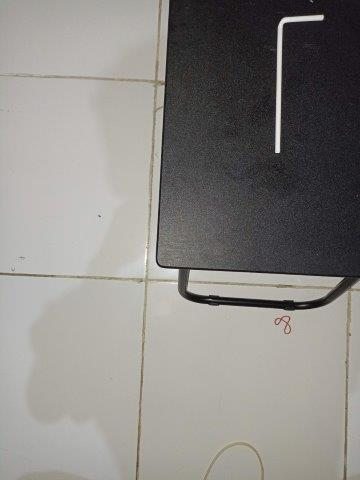karet: (275, 315, 292, 334)
sedotan: (275, 15, 324, 153)
